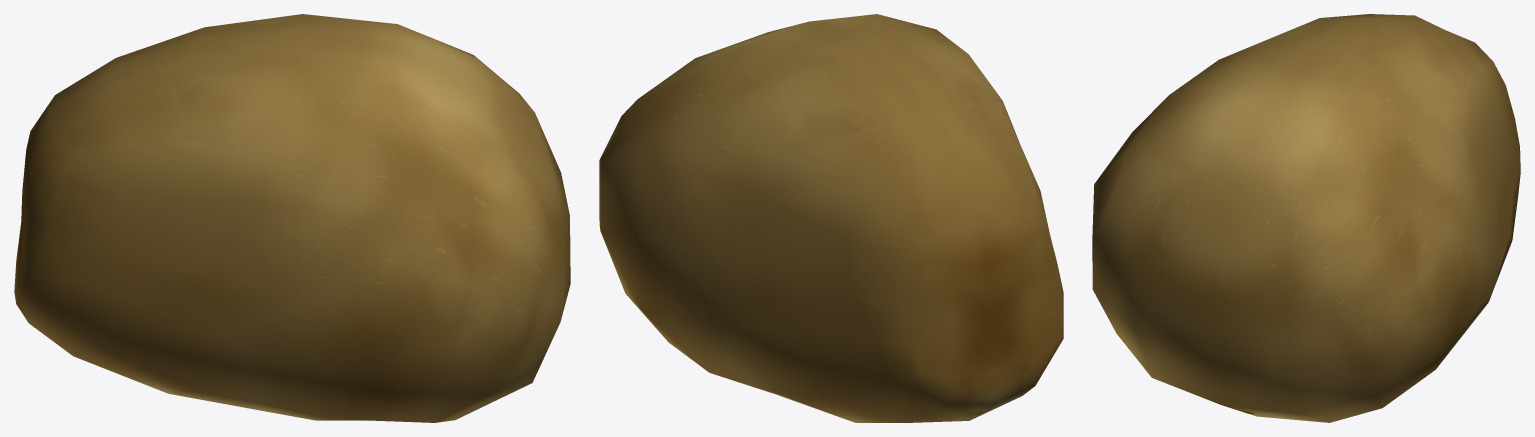
File: mouse_body.obj
3 renders of one model, left to right at view 1: azimuth 30°, elevation 25°; view 2: azimuth 150°, elevation 25°; view 3: azimuth 270°, elevation 25°, orthographic. The views are drawn at different scales.
Visible parts, largest first — view 1: Maus; view 2: Maus; view 3: Maus.
Part boxes in pixels (<box>): Maus: <box>14,14,570,422</box>; Maus: <box>599,14,1063,422</box>; Maus: <box>1092,14,1520,422</box>.
Bounding box in the file's own units: 1.19 × 0.8368 × 1.01.
1 material, 1 textured.
